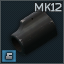MK12 Low Profile Gas Block: (0, 0, 64, 64)
